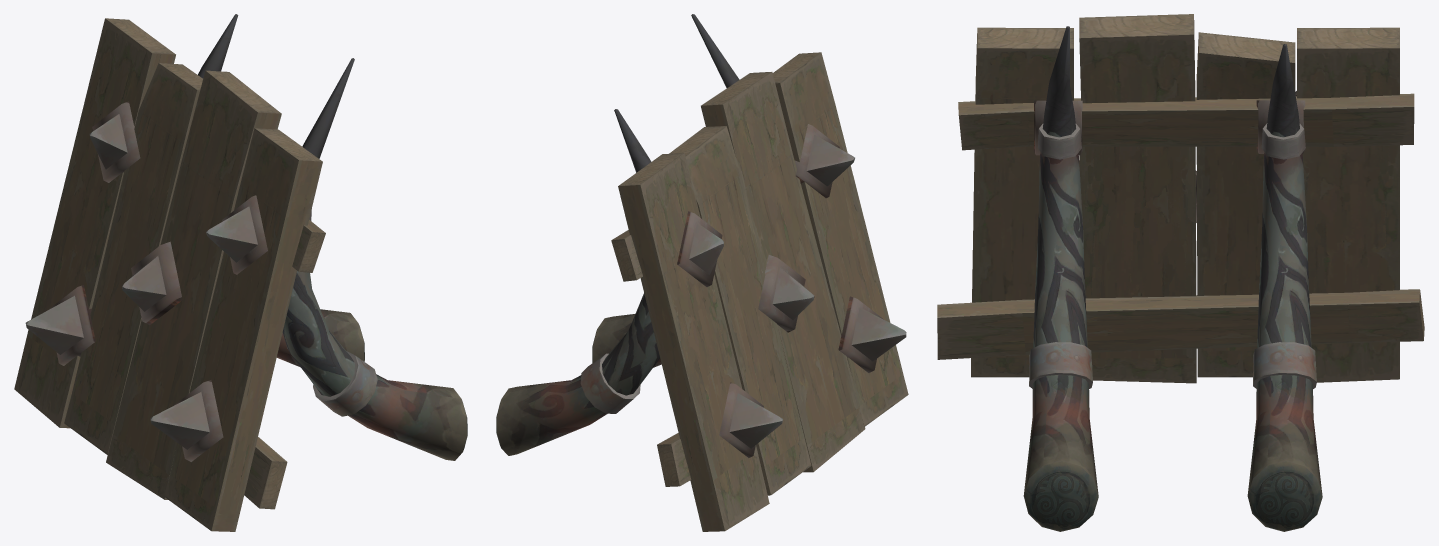
The model's file is Area_Common_Build_Hili_House_19_Lod0.fbx.
3 views of the same model, side by side, from view 1: azimuth 30°, elevation 25°; view 2: azimuth 150°, elevation 25°; view 3: azimuth 270°, elevation 25° (orthographic). The views are drawn at different scales.
Parts seen in each view (by area): view 1: Area_Common_Build_Hili_House_19_Lod0; view 2: Area_Common_Build_Hili_House_19_Lod0; view 3: Area_Common_Build_Hili_House_19_Lod0.
Part boxes in pixels (x1,y1,x2,y2): Area_Common_Build_Hili_House_19_Lod0: [14, 14, 467, 531]; Area_Common_Build_Hili_House_19_Lod0: [496, 14, 908, 531]; Area_Common_Build_Hili_House_19_Lod0: [937, 14, 1424, 531].
Size of the model in its own units: 1.88 by 2.4 by 2.31.
2 materials, 2 textured.
